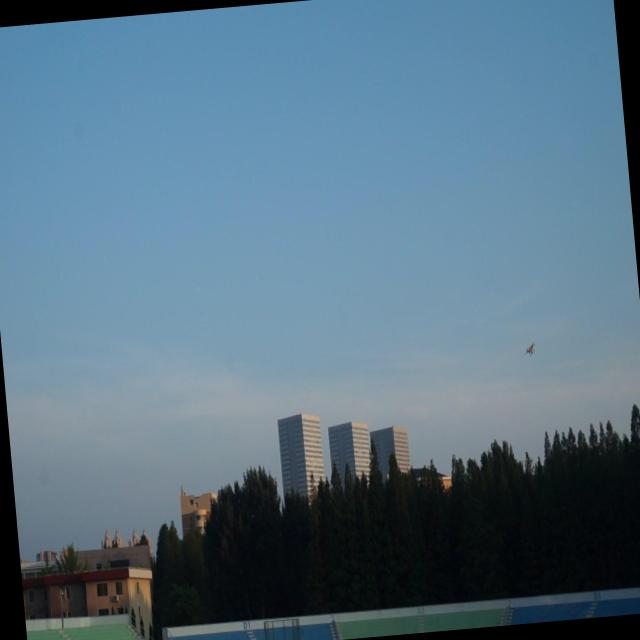drone: (522, 338, 538, 358)
